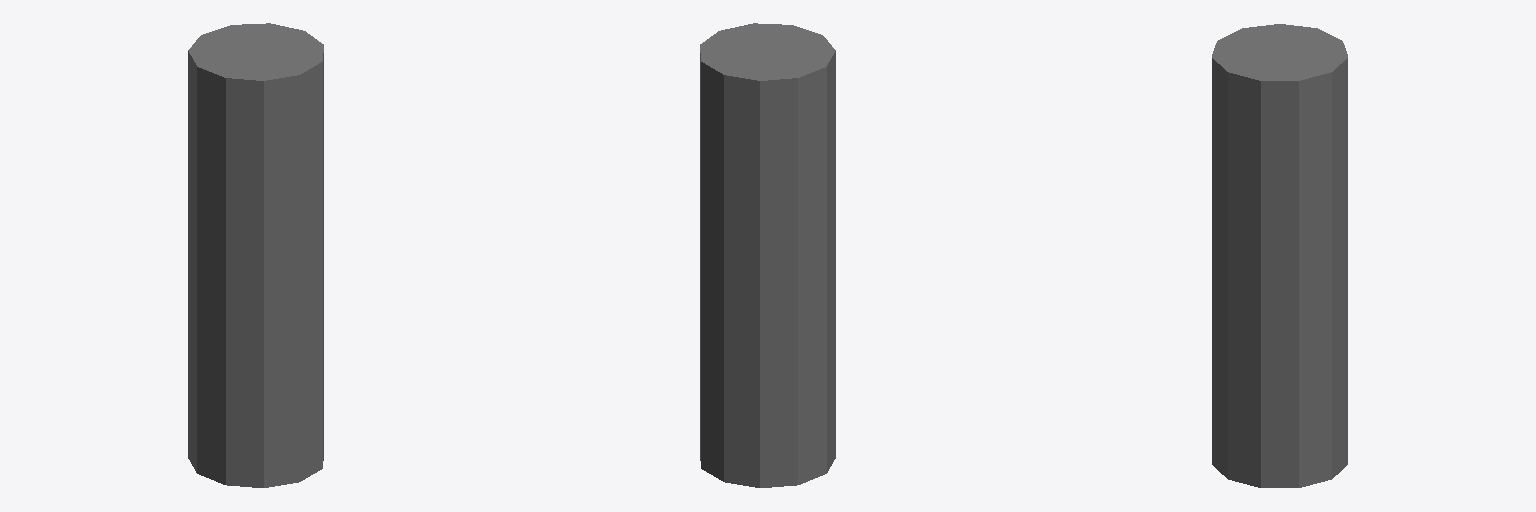
The model's file is GasCilinder.obj.
3 renders of one model, left to right at view 1: azimuth 30°, elevation 25°; view 2: azimuth 150°, elevation 25°; view 3: azimuth 270°, elevation 25°, orthographic.
Parts seen in each view (by area): view 1: GasCilinder; view 2: GasCilinder; view 3: GasCilinder.
Part boxes in pixels (left/top/right/bottom): GasCilinder: left=188, top=23, right=323, bottom=487; GasCilinder: left=700, top=23, right=835, bottom=487; GasCilinder: left=1212, top=24, right=1347, bottom=487.
Bounding box in the file's own units: 0.2351 × 0.78 × 0.2376.